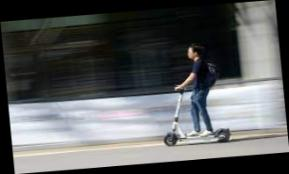nonhelmet: (153, 40, 233, 150)
